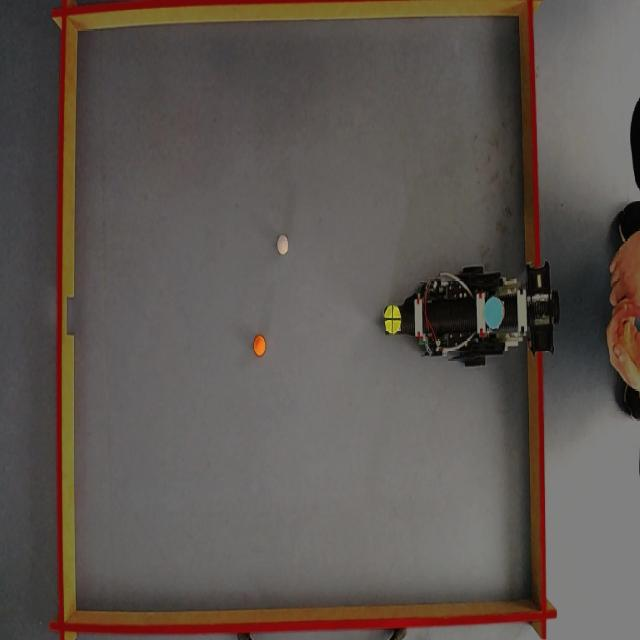orange: (254, 334, 268, 357)
robot: (386, 264, 558, 370)
robot-front: (384, 304, 402, 336)
robot-rear: (484, 292, 504, 329)
white: (276, 236, 290, 255)
